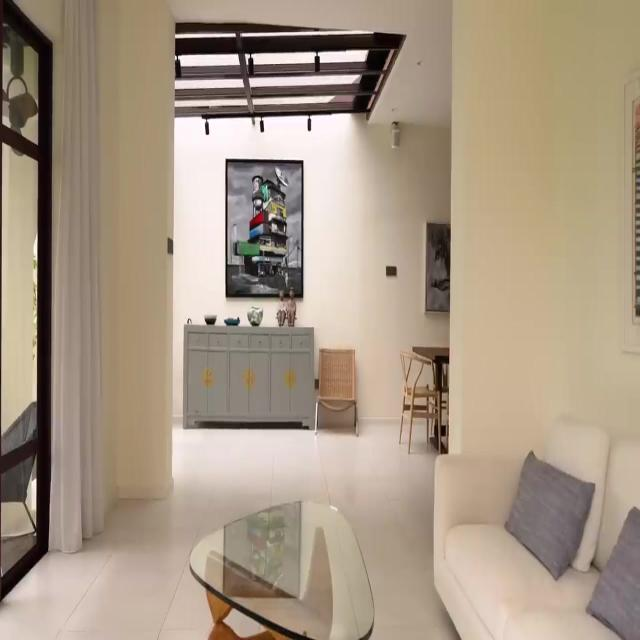door: (0, 0, 52, 601)
obstacle: (432, 419, 640, 639), (188, 499, 374, 638), (411, 345, 449, 452), (314, 348, 358, 436)
